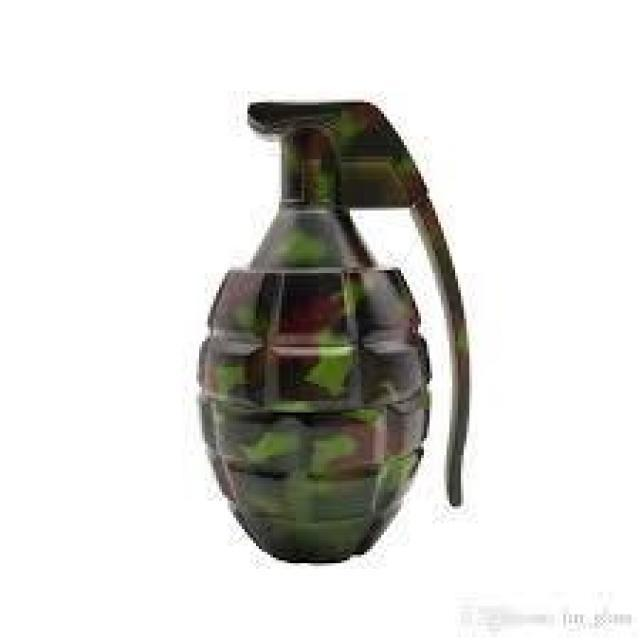Grenade: (190, 96, 467, 564)
